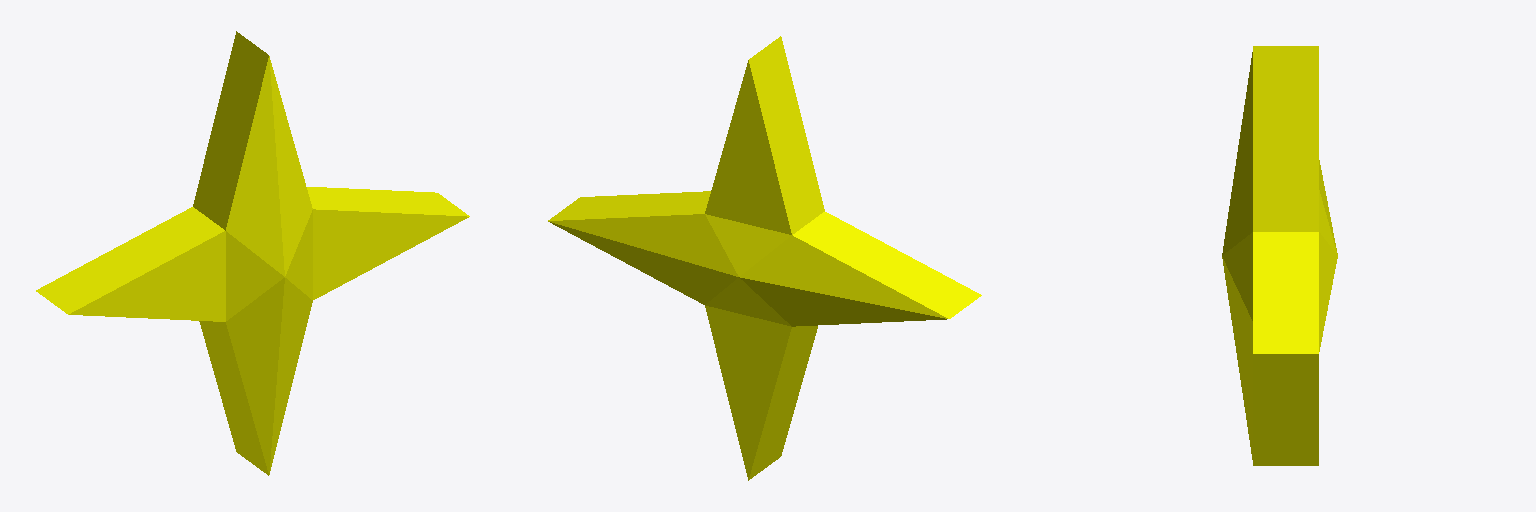
3 views of the same model, side by side, from view 1: azimuth 30°, elevation 25°; view 2: azimuth 150°, elevation 25°; view 3: azimuth 270°, elevation 25° (orthographic).
Visible parts, largest first — view 1: 立方体; view 2: 立方体; view 3: 立方体.
Part boxes in pixels (bbox=[...]): 立方体: bbox=[36, 31, 469, 475]; 立方体: bbox=[548, 36, 981, 480]; 立方体: bbox=[1222, 46, 1337, 465].
Size of the model in its own units: 1.7 by 1.7 by 0.4239.
Materials: 1 (1 with a texture image).